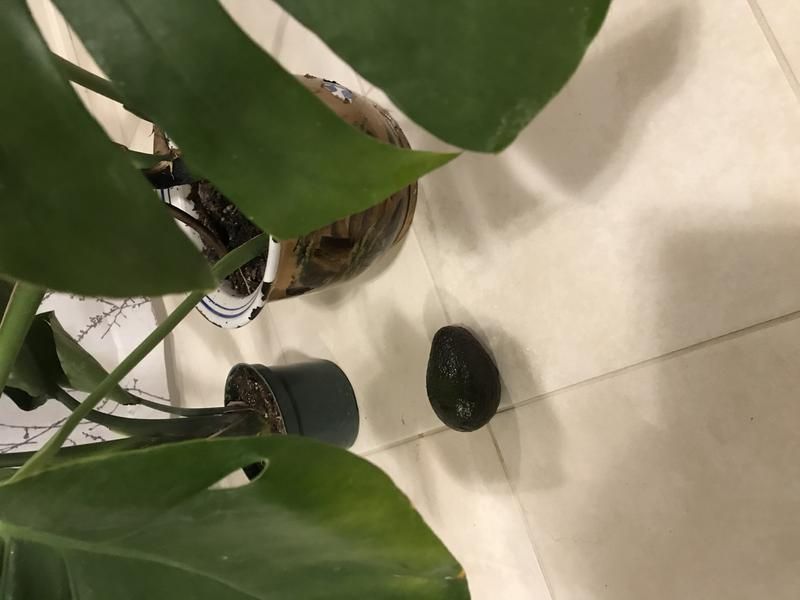avocado: (414, 315, 513, 441)
